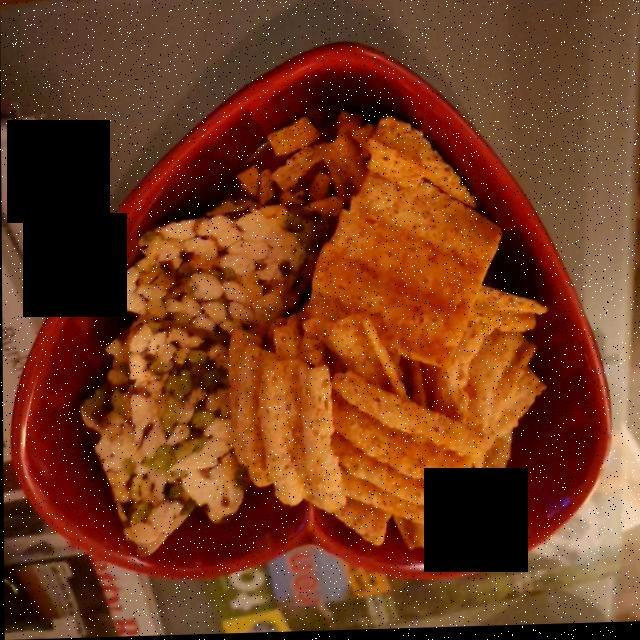chips: (227, 115, 552, 550)
crisps: (93, 139, 303, 543)
